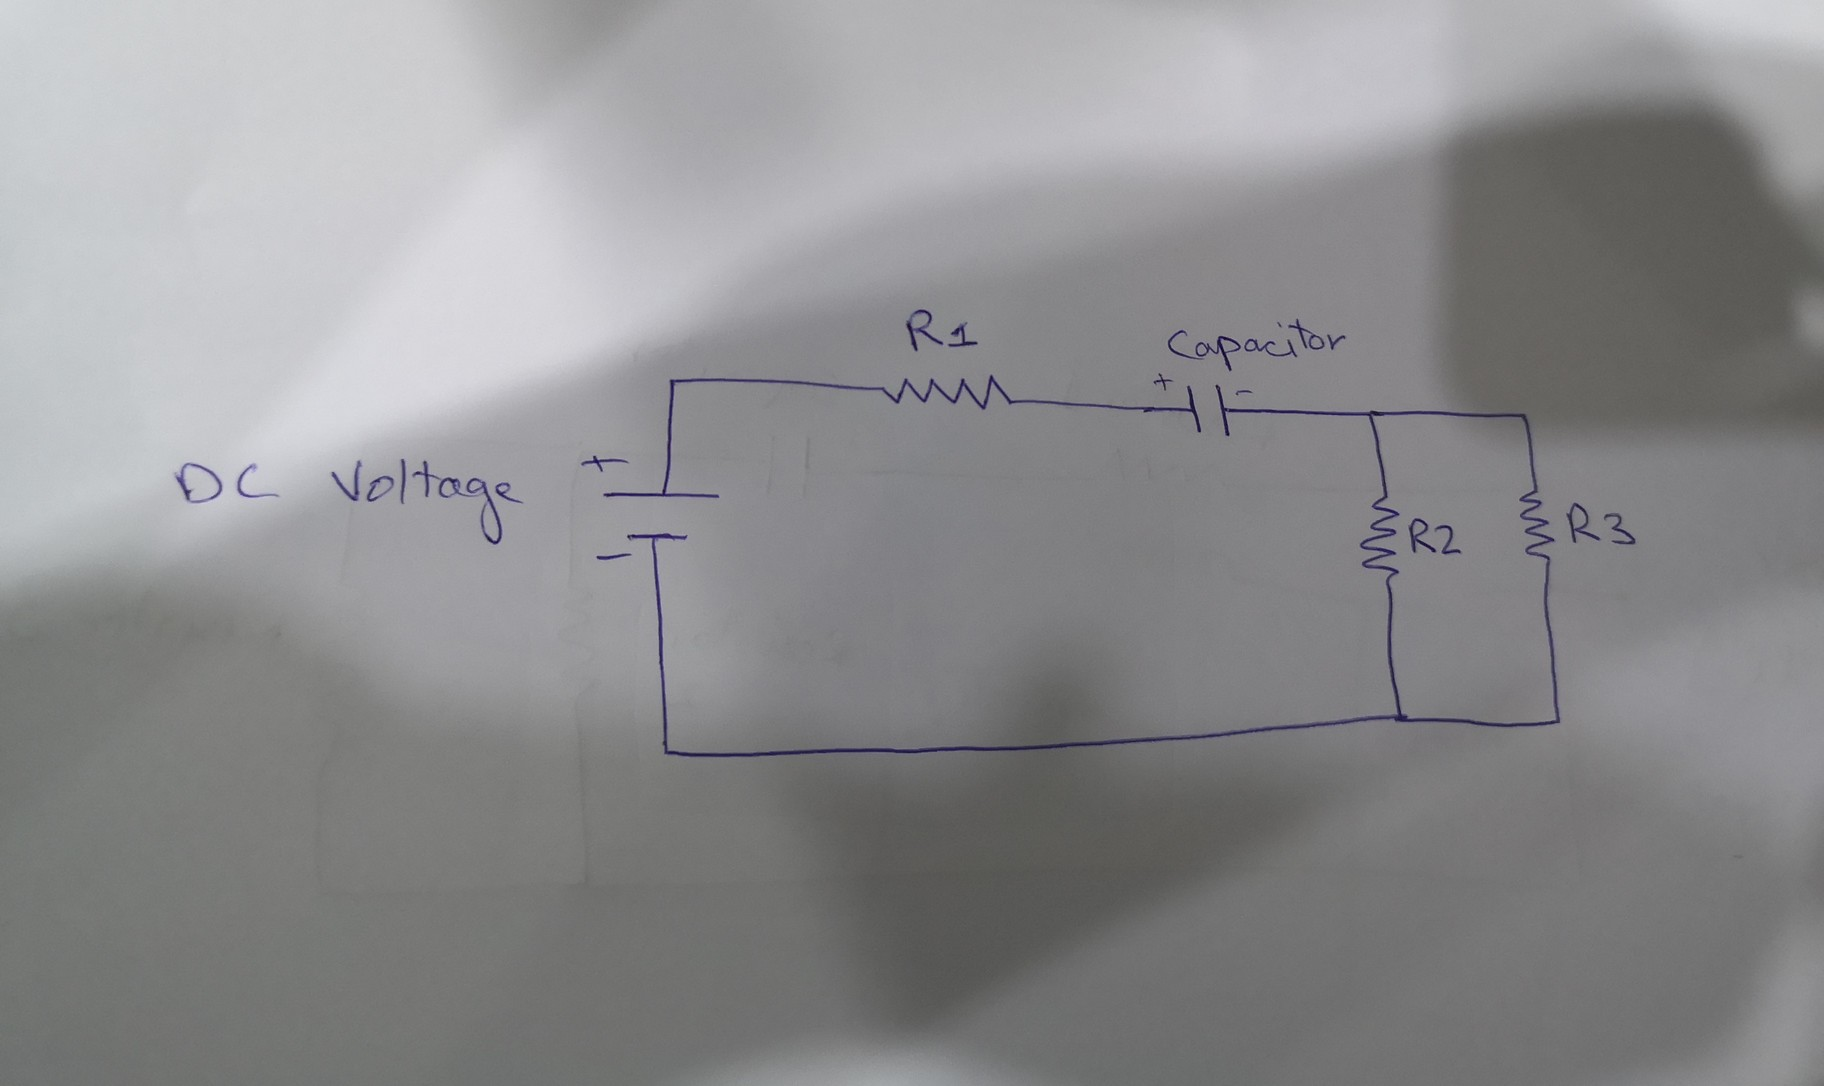capacitor.polarized: (1151, 371, 1260, 441)
junction: (1383, 701, 1419, 734), (1543, 705, 1571, 733), (659, 370, 685, 396), (654, 737, 679, 764), (1510, 403, 1536, 427), (1359, 403, 1384, 427)
resistor: (880, 374, 1015, 411), (1357, 489, 1403, 590), (1516, 484, 1554, 562)
text: (165, 451, 530, 549), (1160, 314, 1350, 375), (1562, 502, 1639, 549), (902, 306, 979, 354), (1408, 515, 1465, 559)
voltage.dc: (599, 485, 726, 546)
